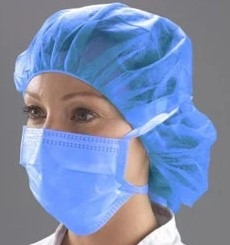with_mask_and_cap: (22, 9, 180, 236)
